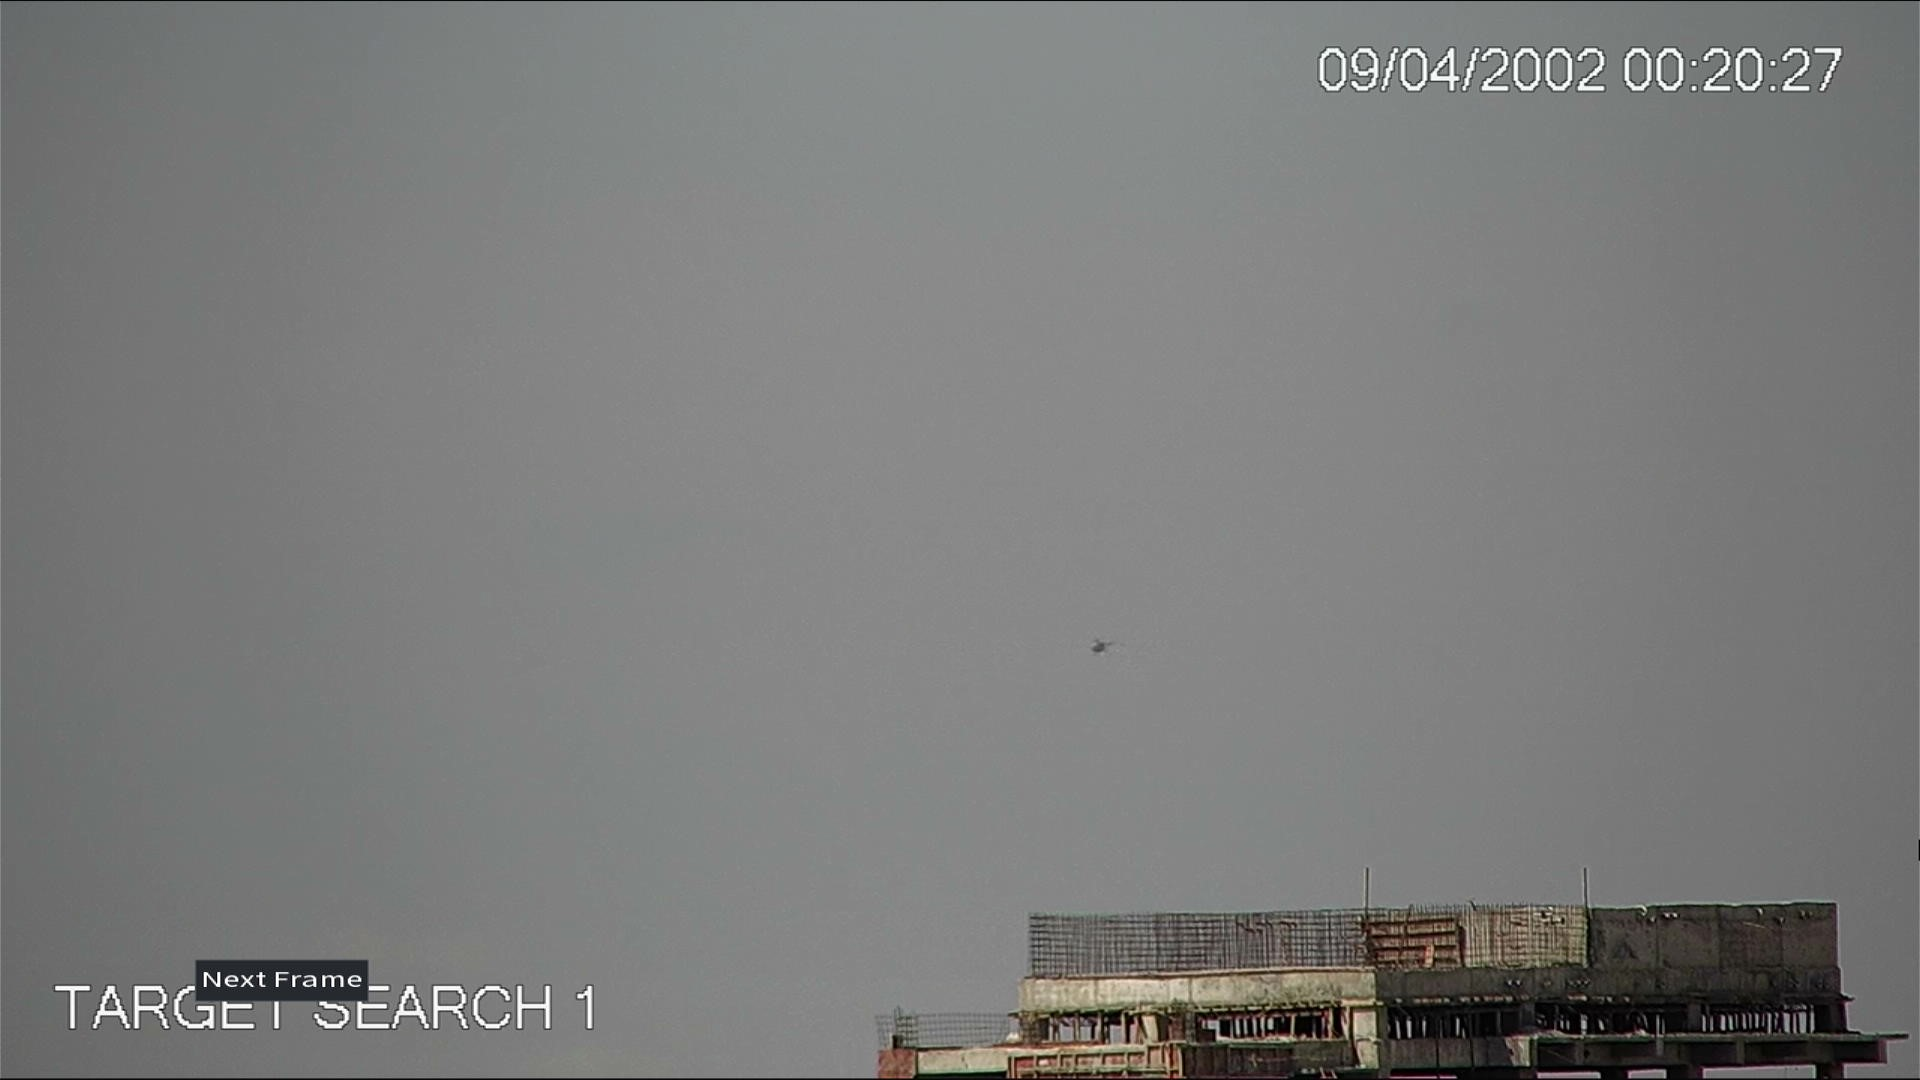SU_30: (1085, 637, 1108, 655)
